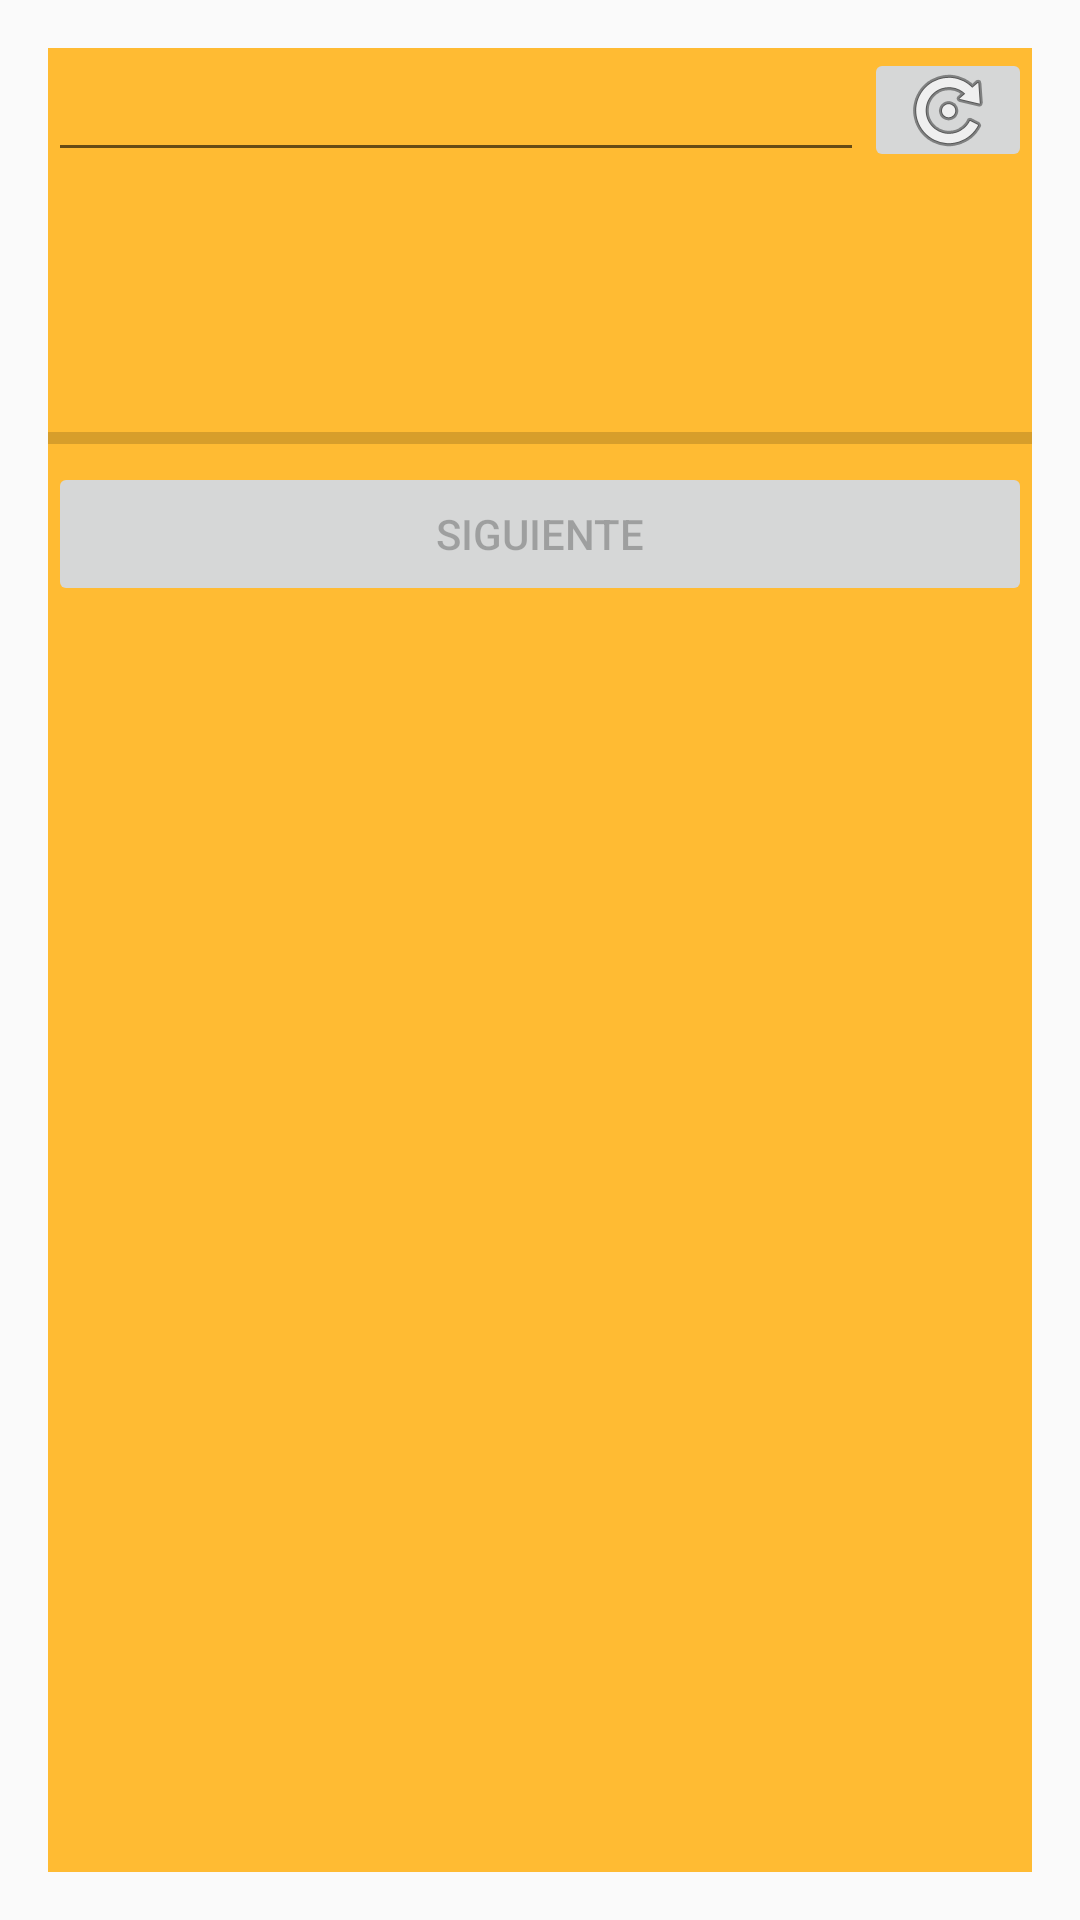

Where icons sit on this 1080 x 1920 app screen, as (x1, y1, x2, y2):
rotate: (876, 66, 1020, 154)
